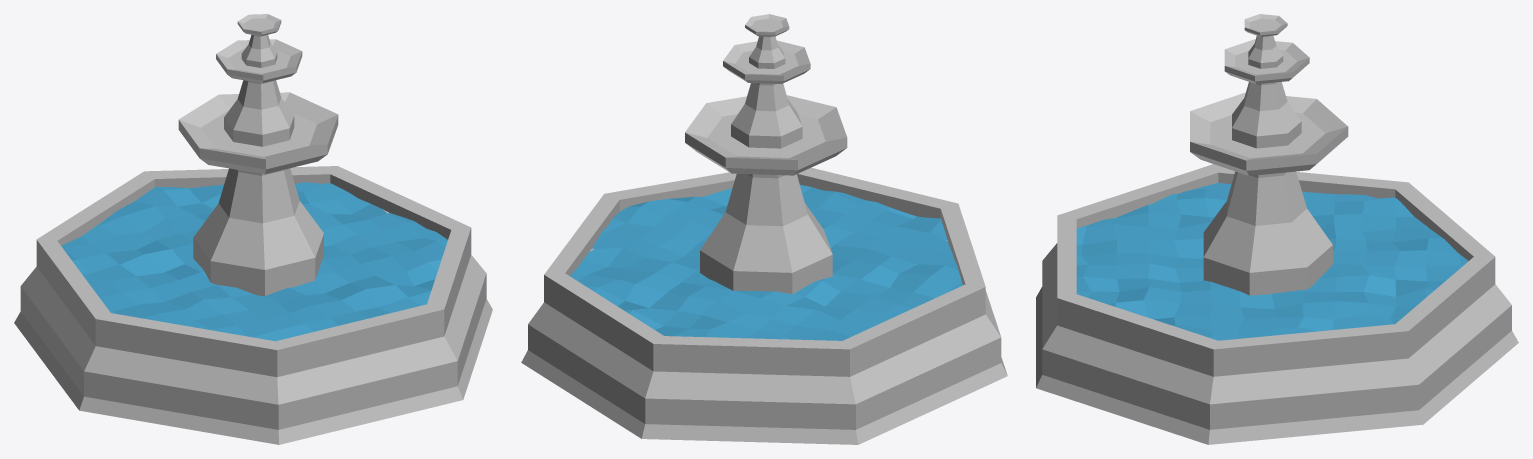
The model's file is Fountain.fbx.
3 renders of one model, left to right at view 1: azimuth 30°, elevation 25°; view 2: azimuth 150°, elevation 25°; view 3: azimuth 270°, elevation 25°, orthographic.
Visible parts, largest first — view 1: Fountain; view 2: Fountain; view 3: Fountain.
Part boxes in pixels (x1,y1,x2,y2): Fountain: (14, 14, 492, 444); Fountain: (521, 14, 1007, 444); Fountain: (1036, 14, 1518, 444).
Bounding box in the file's own units: 2451 × 1792 × 2448.
